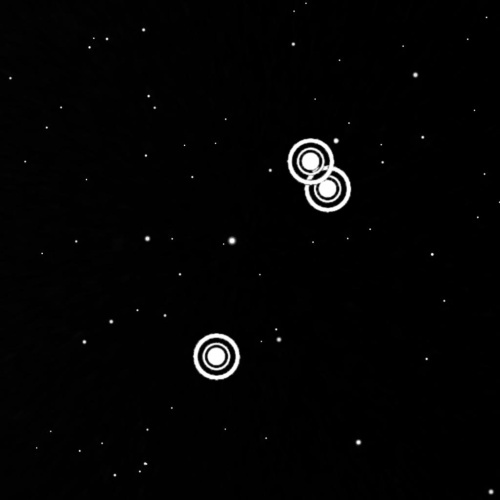canis_minor: (183, 129, 361, 392)
